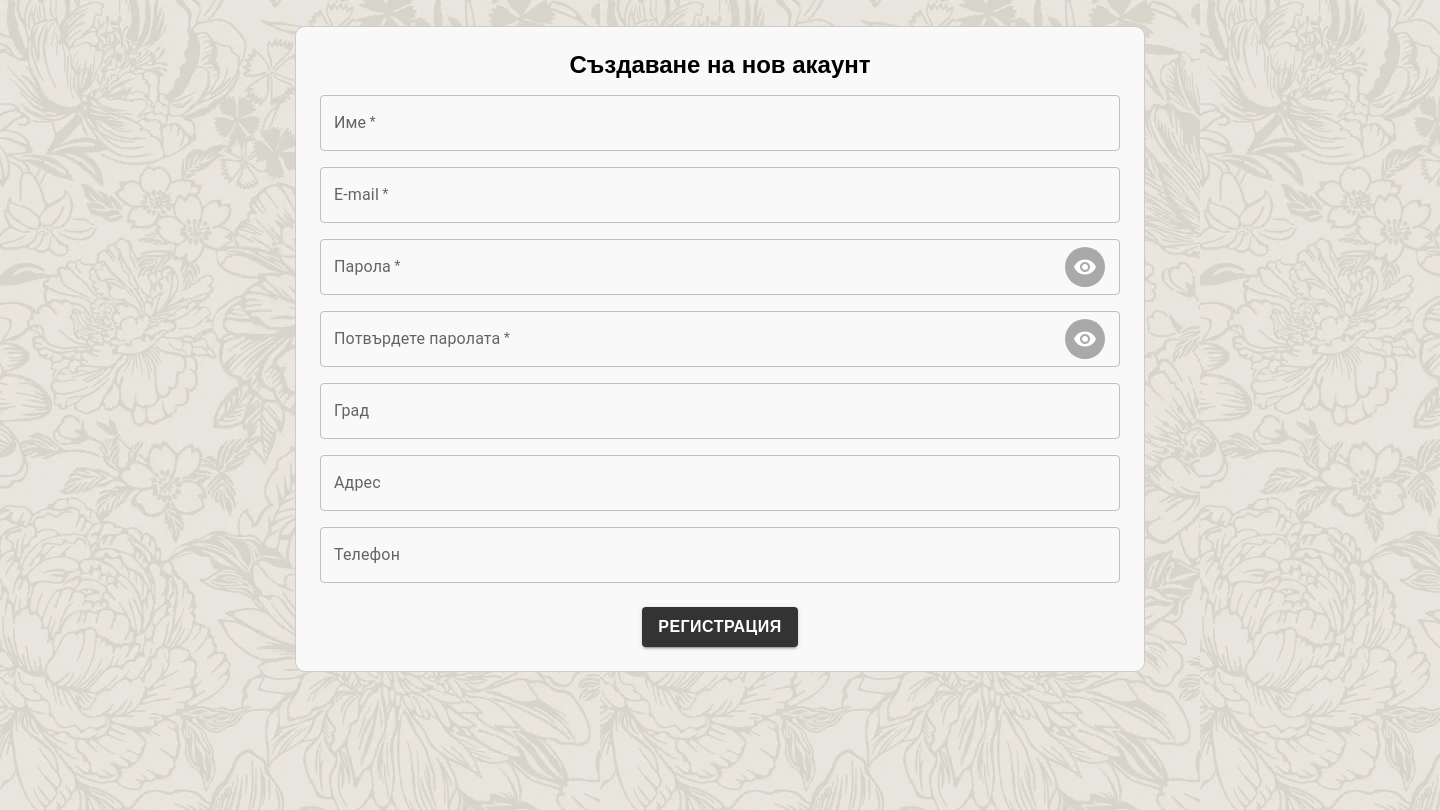
Scenario: Компонент SignUpPage › Показване на съобщение за грешка при парола по-кратка от 8 символа.
Step 1. Type "Иван" into the field labelled "Име *" → (720, 123), box [320,95,1120,151]
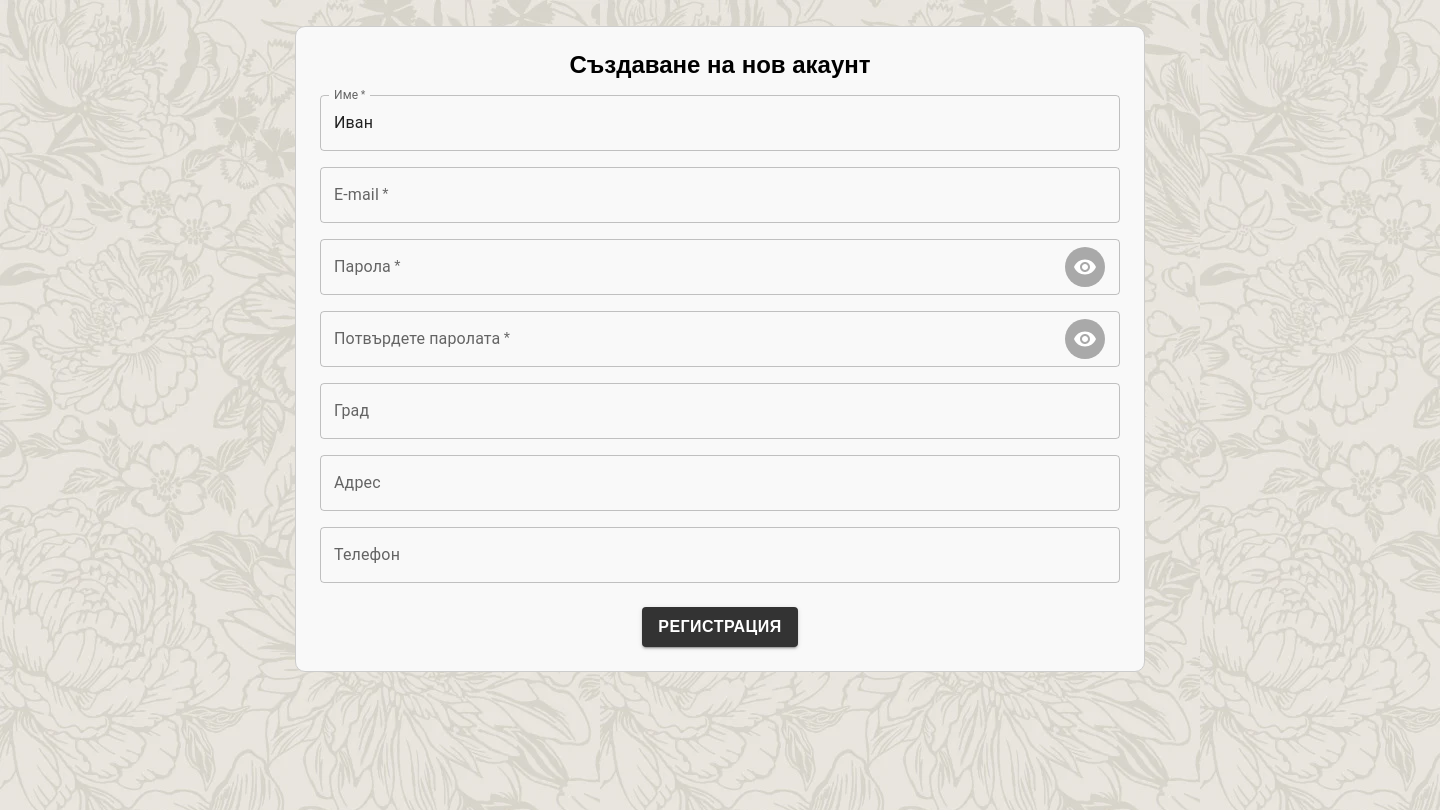
Step 2. Type "ivan@example.com" into the field labelled "E-mail *" → (720, 195), box [320,167,1120,223]
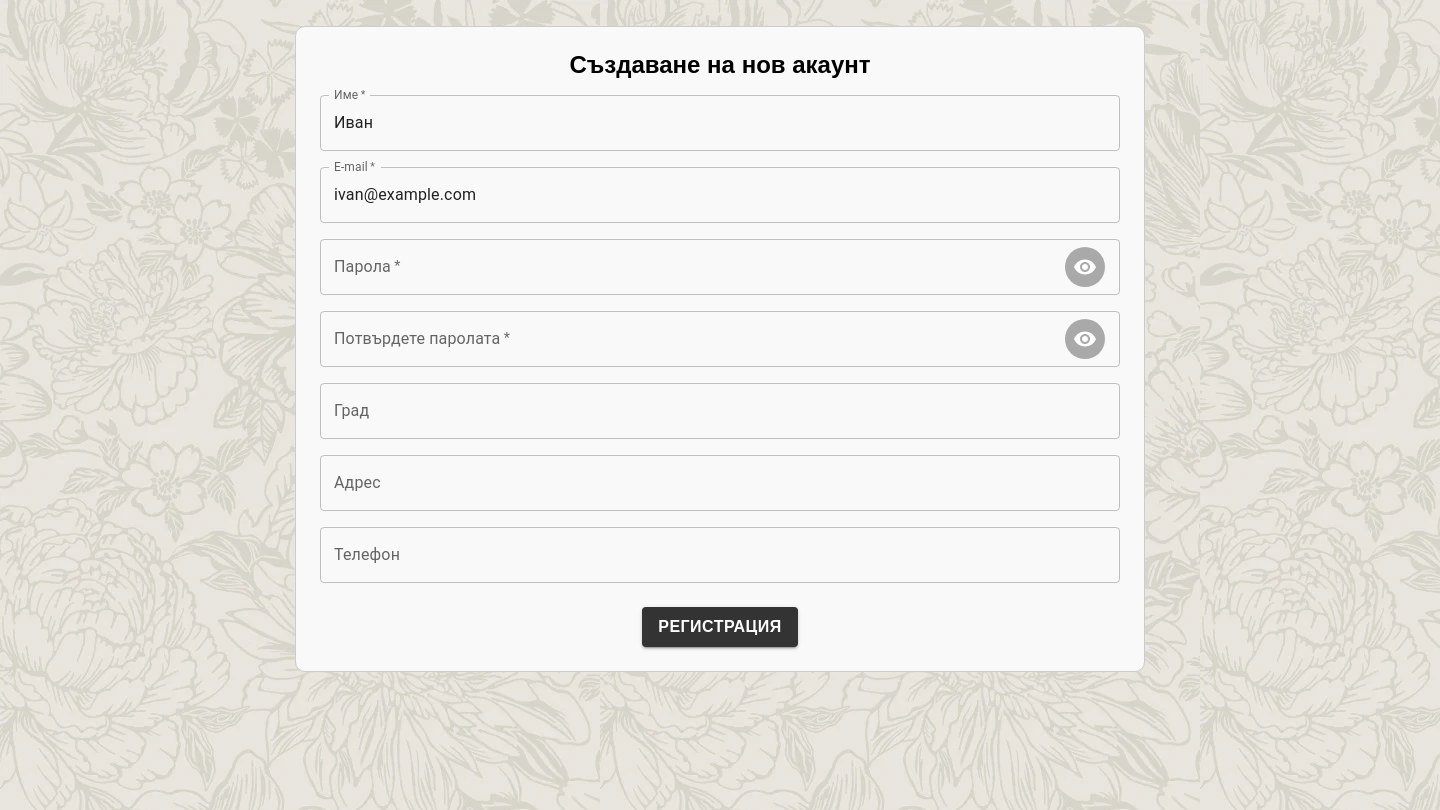
Step 3. Type "short" into the password field labelled "Парола *" → (688, 267), box [320,239,1057,295]
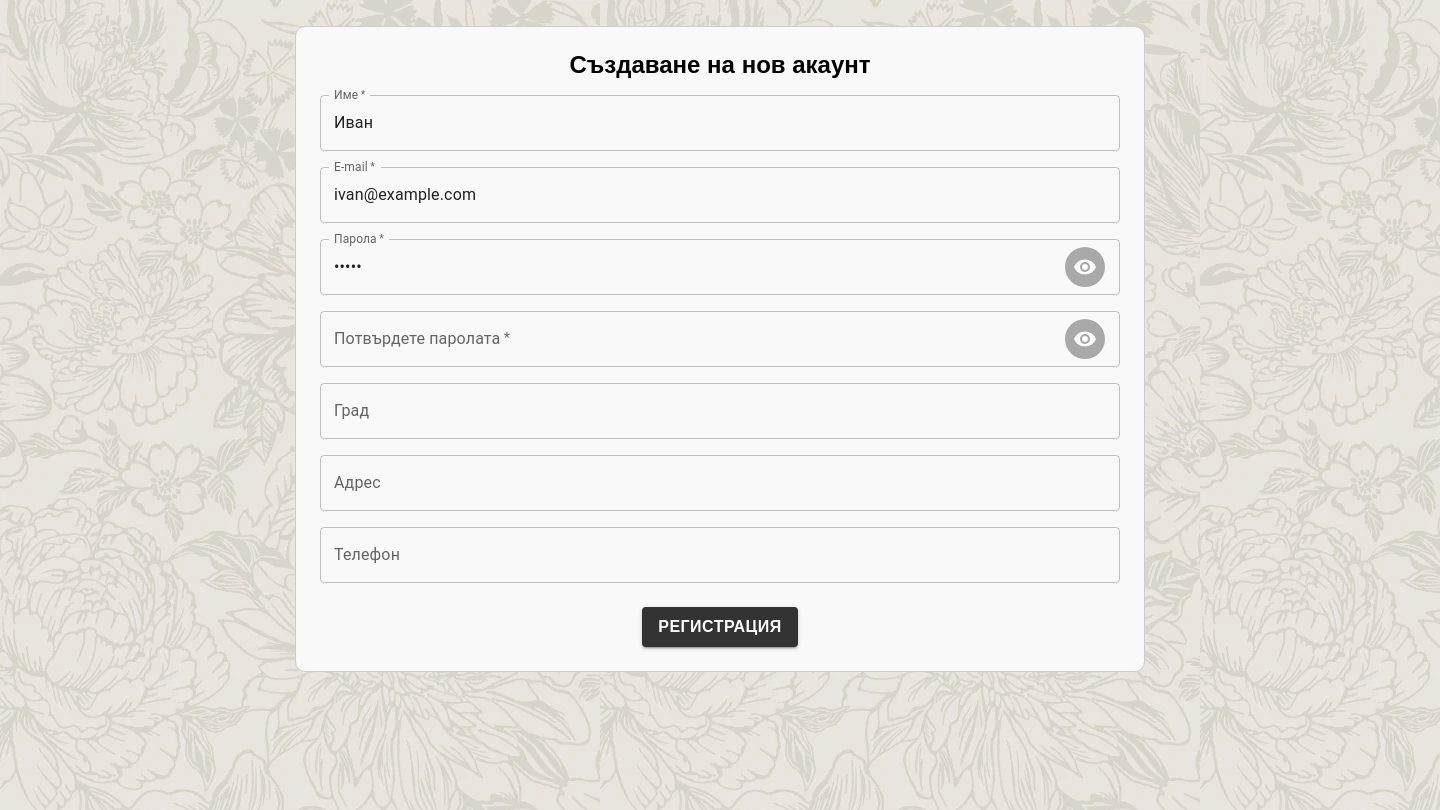
Step 4. Type "short" into the password field labelled "Потвърдете паролата *" → (688, 339), box [320,311,1057,367]
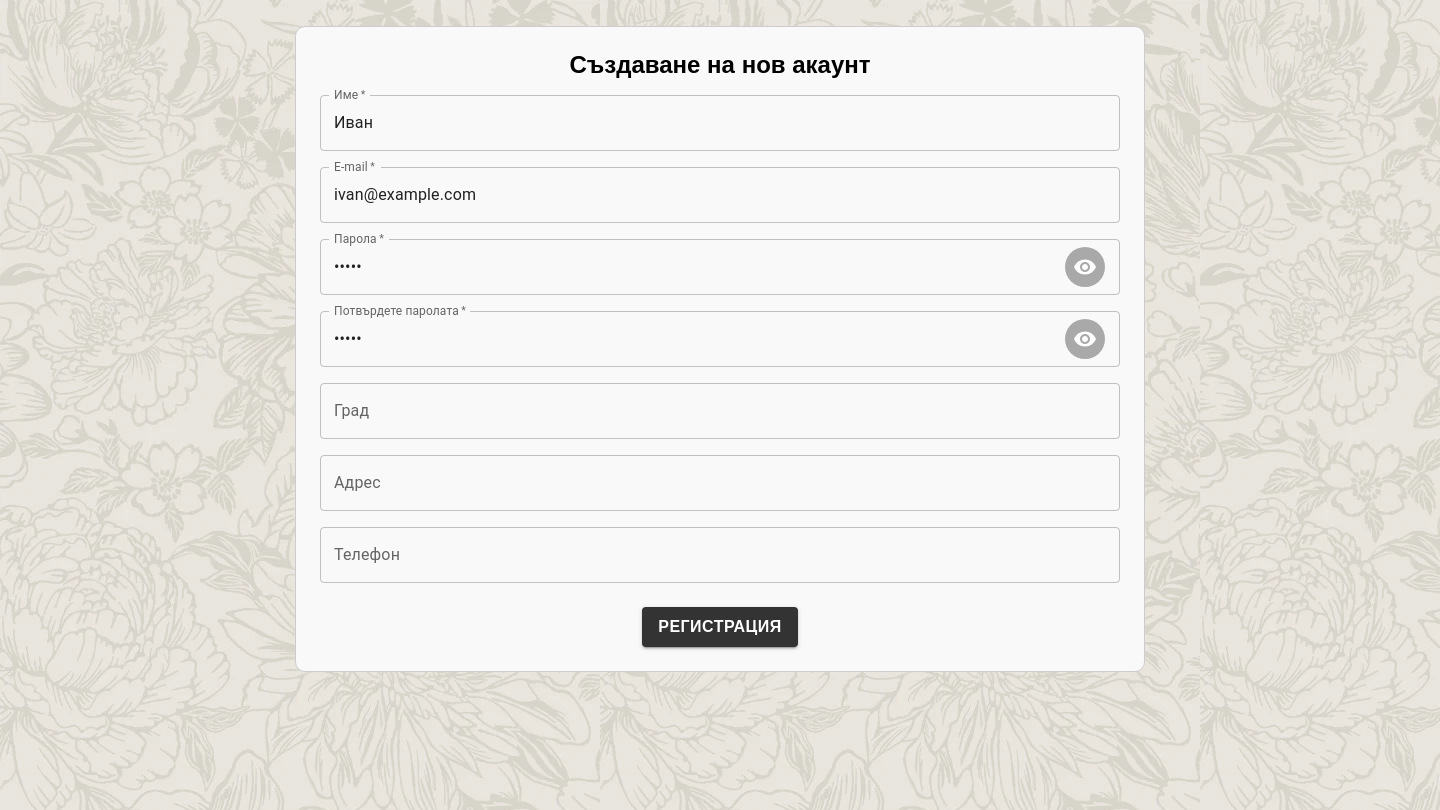
Step 5. Type "1234567890" into the field labelled "Телефон" → (720, 555), box [320,527,1120,583]
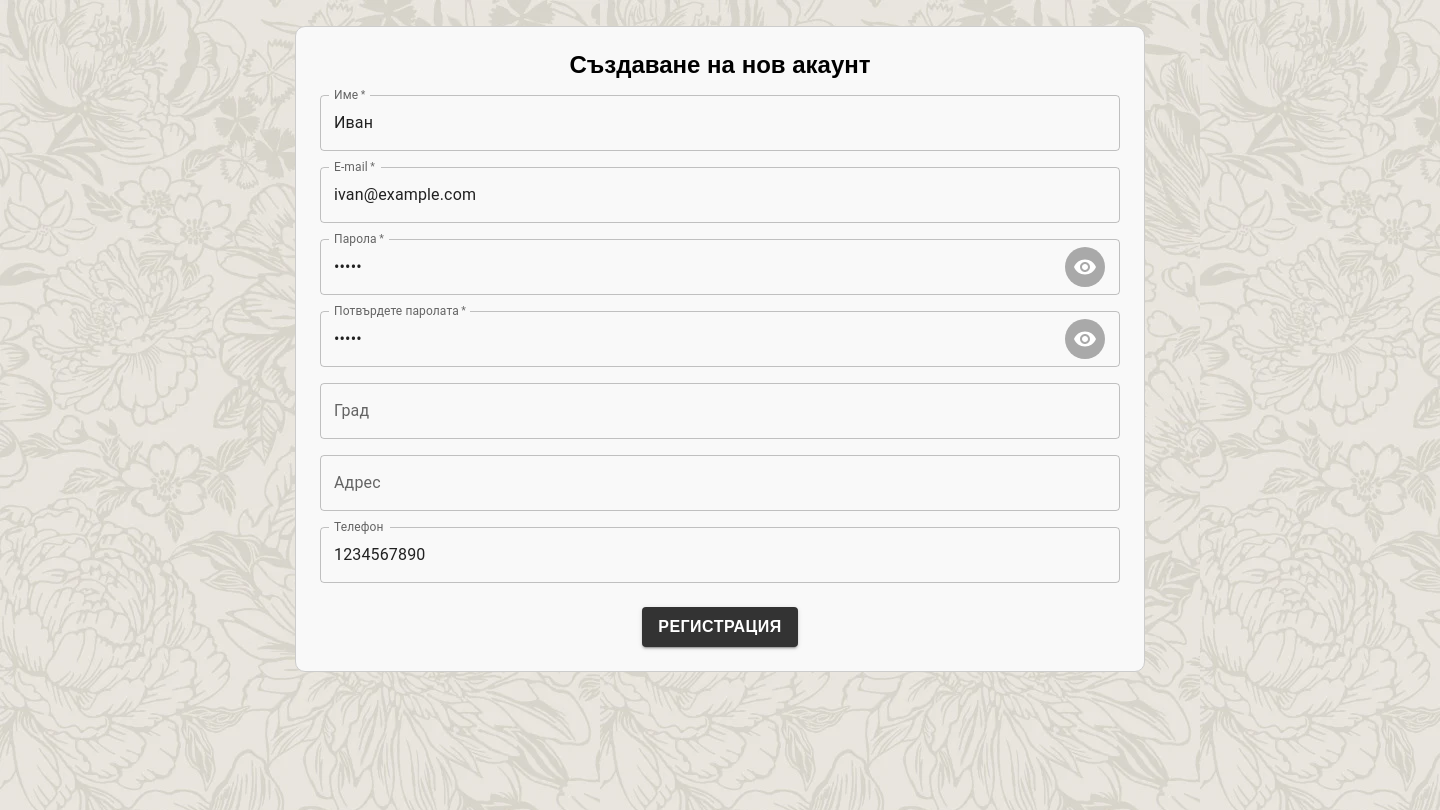
Step 6. Click the button "Регистрация" → (720, 627), box [642,607,798,647]
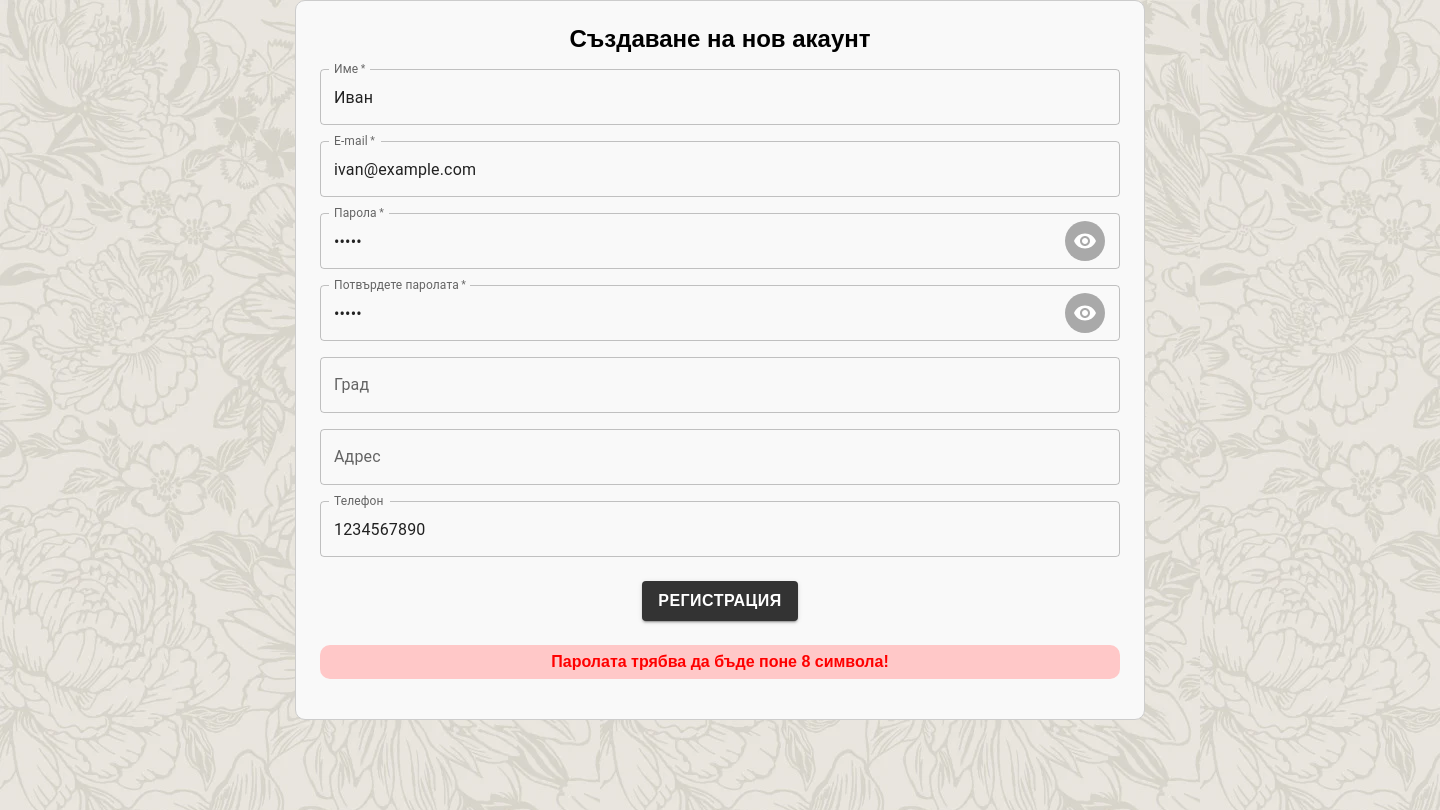
Expected: the text "Паролата трябва да бъде поне 8 символа!" is shown, [320,645,1120,679]
